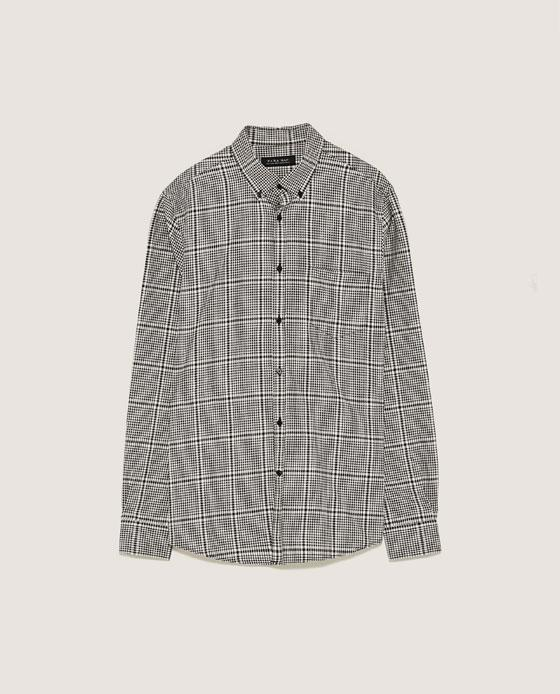teeshirt: (110, 121, 463, 590)
